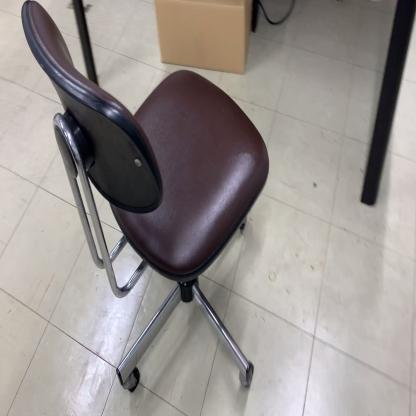chair: (20, 0, 270, 391)
